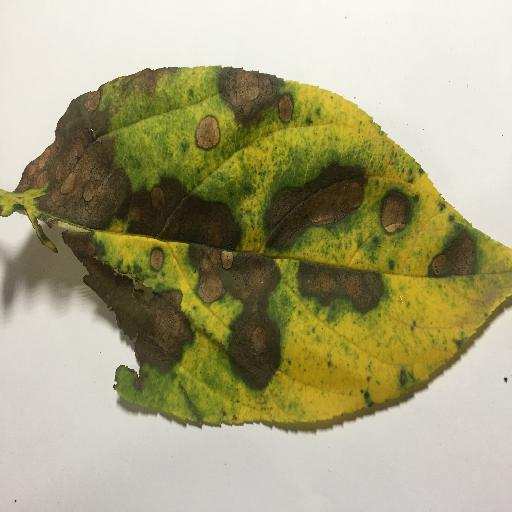Brown_Spot: (69, 226, 193, 370), (19, 114, 132, 222), (200, 246, 270, 390), (271, 171, 364, 244), (292, 257, 381, 319), (225, 73, 274, 119), (432, 233, 469, 277), (385, 184, 413, 239), (148, 244, 170, 277), (195, 121, 220, 147), (281, 90, 295, 122)
